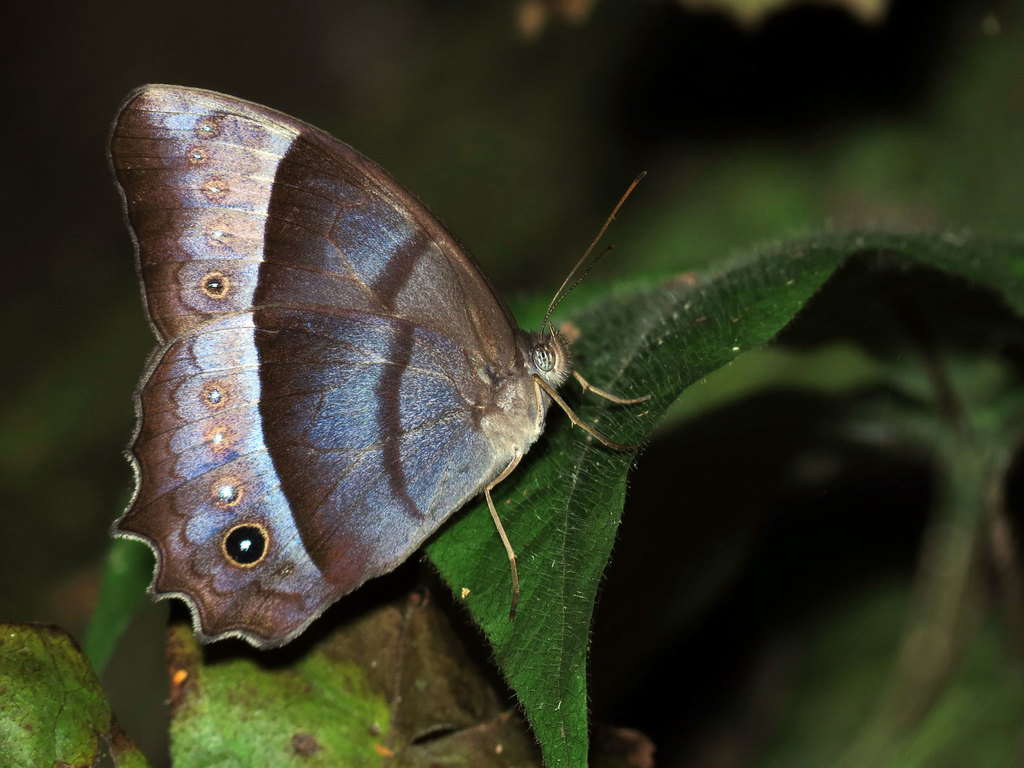Butterfly: (104, 58, 684, 681)
